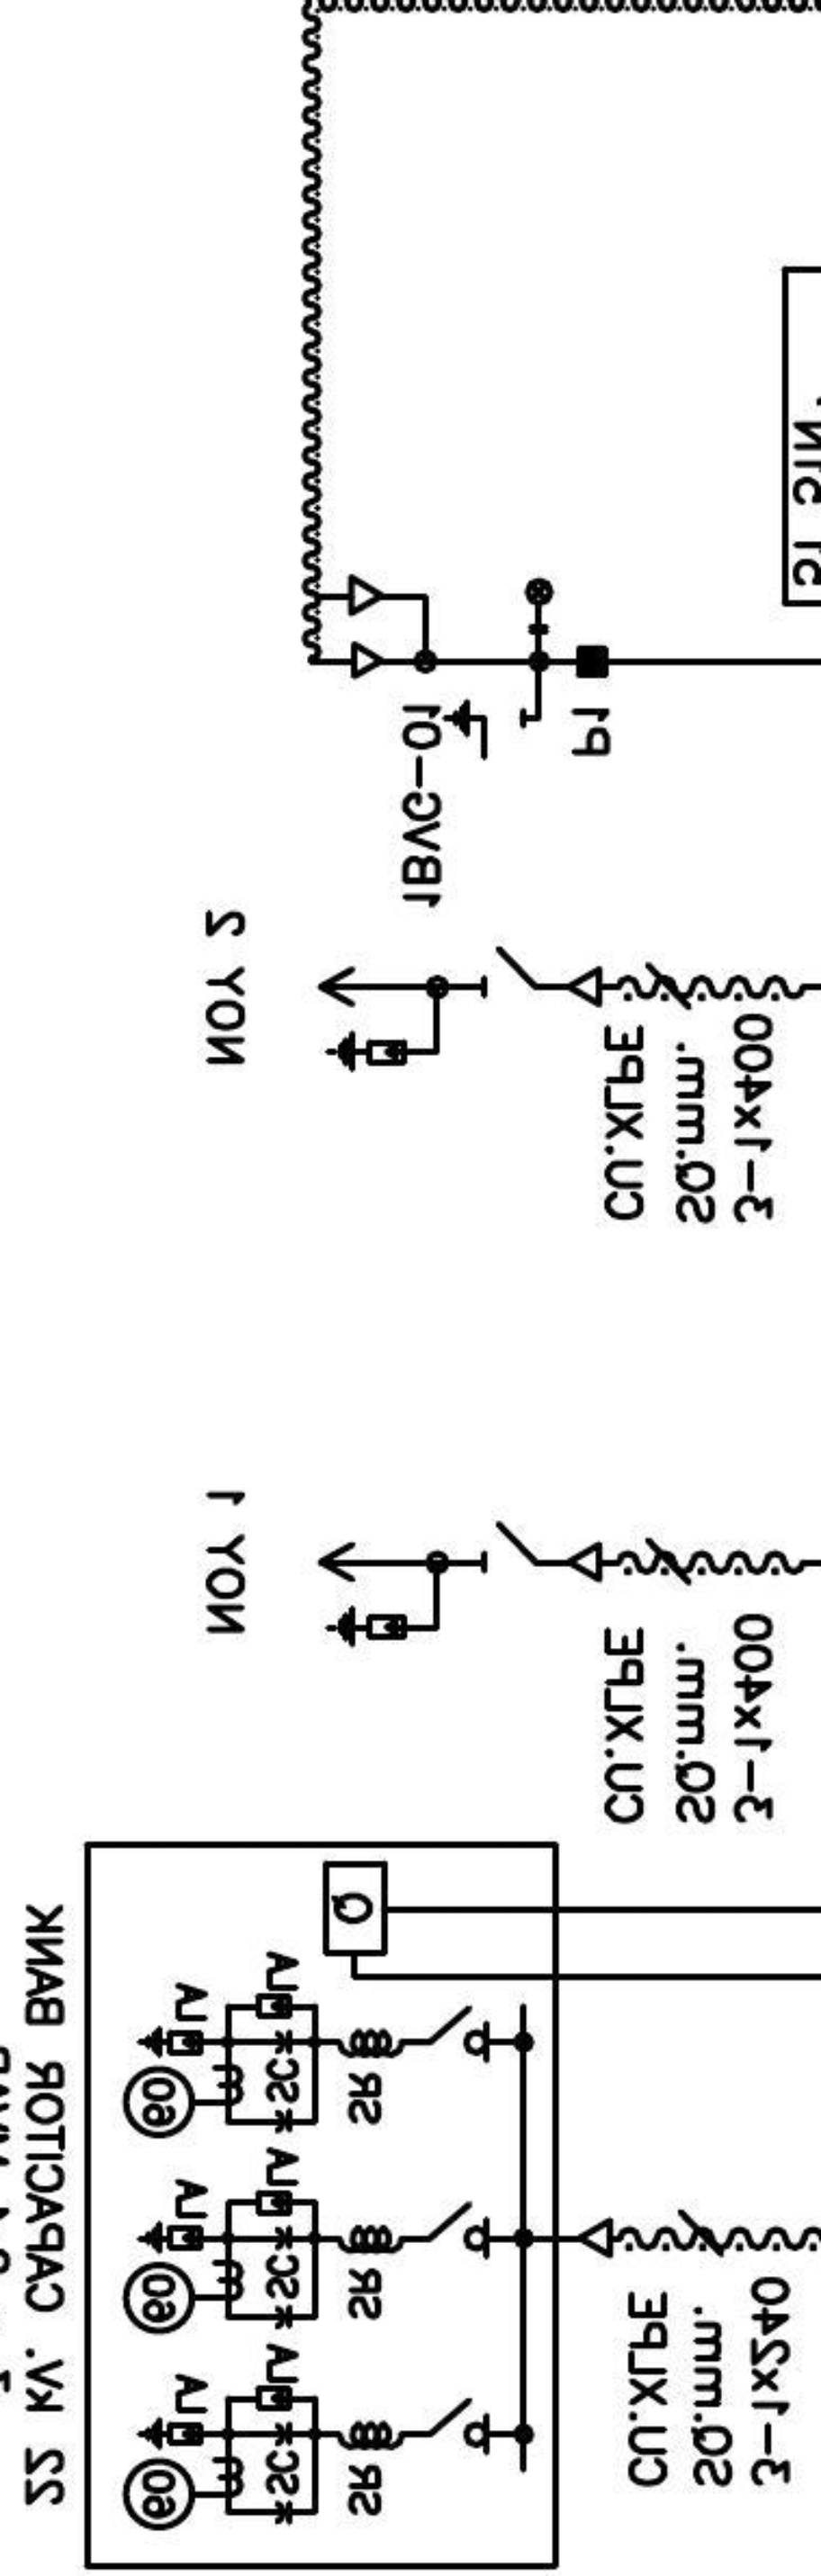22_cap_bank: (82, 1840, 562, 2571)
22_ds_la_out: (315, 1520, 537, 1649), (317, 943, 537, 1073)
22_gs: (440, 697, 527, 762)
22_ll: (522, 575, 557, 636)
Q: (320, 1858, 389, 1958)
terminator_double: (346, 572, 430, 682)
terminator_single: (576, 2215, 616, 2261), (566, 1539, 604, 1584), (566, 964, 604, 1007)
